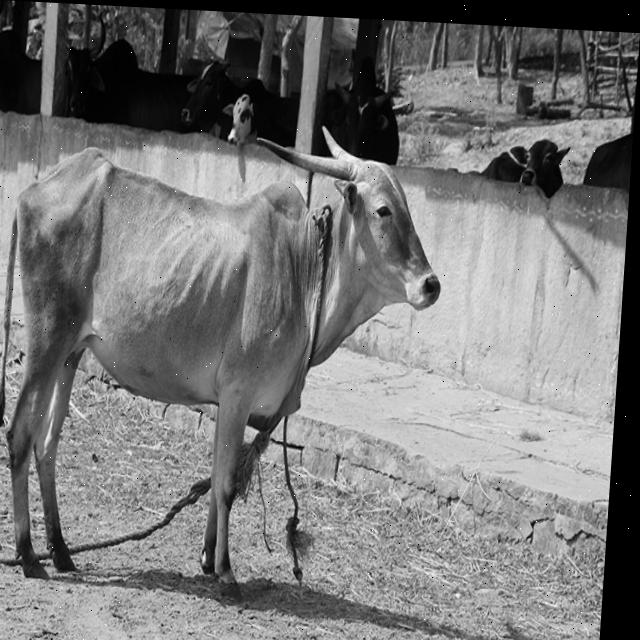Cow: (0, 106, 453, 613)
